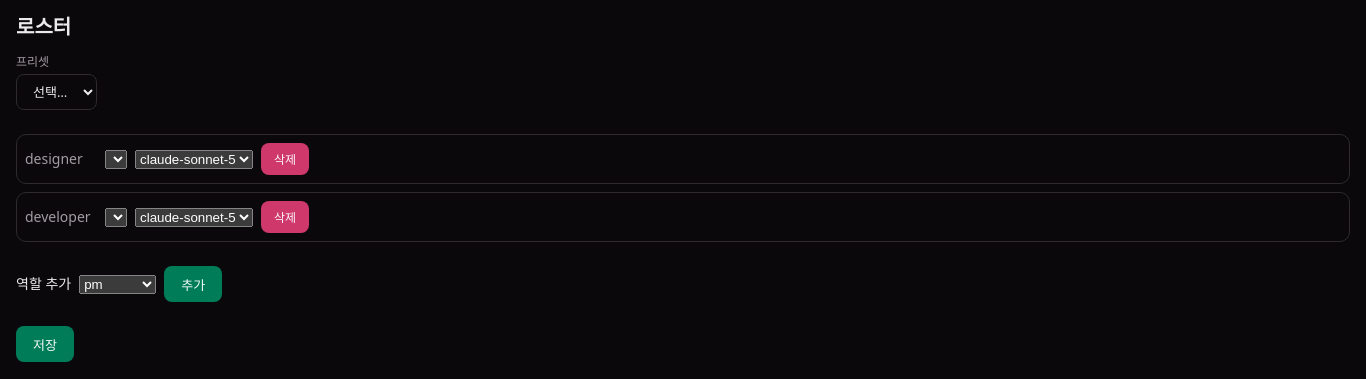
RosterPanel › shows an inline error when saving the roster fails
Check: the dropdown named "designer 모델" is shown, box x1=135 y1=150 x2=253 y2=169
Click the button "저장": (45, 344) x1=16 y1=326 x2=74 y2=362
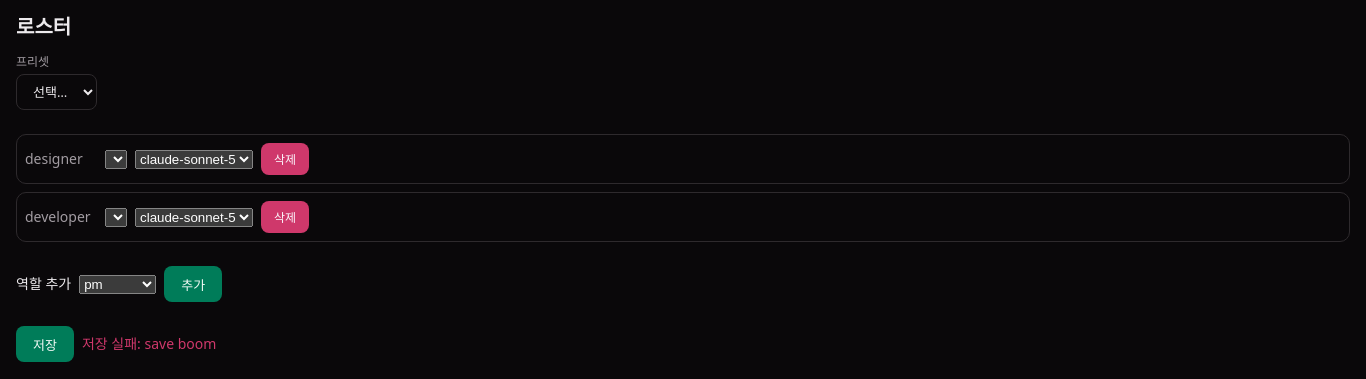
Check: the text "저장 실패: save boom" is shown, box x1=82 y1=334 x2=216 y2=354
